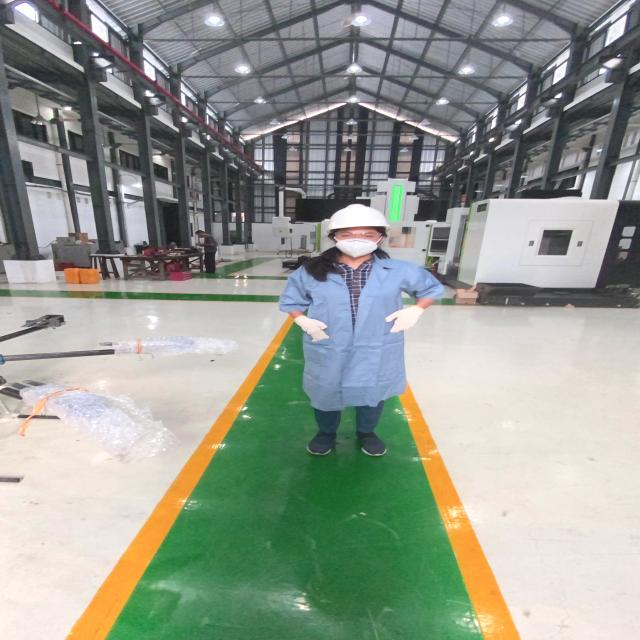face_mask: (330, 230, 382, 258)
glasses: (332, 228, 388, 242)
hand_glove: (378, 304, 428, 338), (291, 314, 334, 342)
head_helmet: (325, 202, 394, 231)
person: (251, 200, 450, 467)
shoes: (302, 426, 348, 458), (350, 427, 395, 459)
